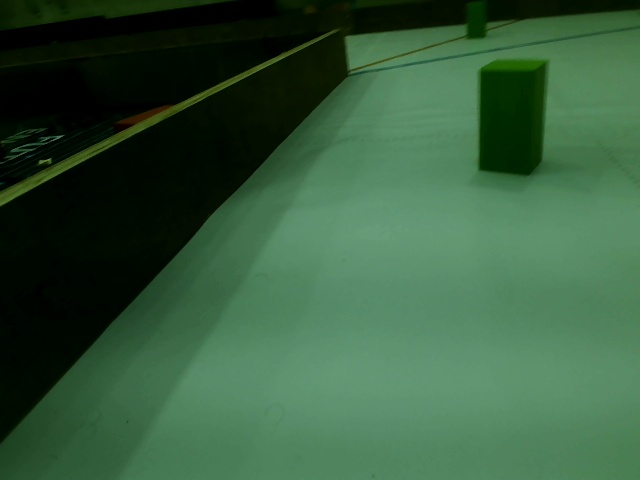green: (480, 59, 542, 174)
